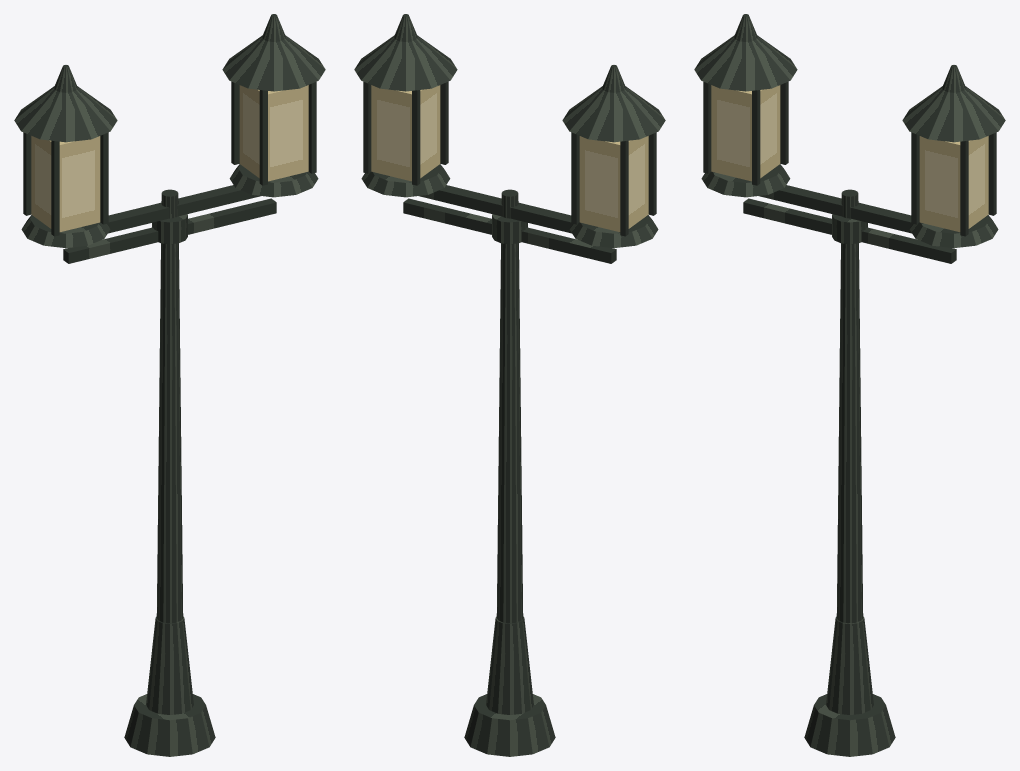
The model's file is street_light_double.gltf.
3 renders of one model, left to right at view 1: azimuth 30°, elevation 25°; view 2: azimuth 150°, elevation 25°; view 3: azimuth 330°, elevation 25°, orthographic.
Visible parts, largest first — view 1: warm_glass (×2), slender_column, lantern_roof (×2), lantern_frame (×6), plinth, pedestal, lantern_foot (×2), brace (×2), cross_arm, collar; view 2: warm_glass (×2), slender_column, lantern_roof (×2), lantern_frame (×6), plinth, pedestal, lantern_foot (×2), brace (×2), cross_arm, collar; view 3: warm_glass (×2), slender_column, lantern_roof (×2), lantern_frame (×6), plinth, pedestal, lantern_foot (×2), brace (×2), cross_arm, collar.
Part boxes in pixels (x1,y1,x2,y2): warm_glass (×2): (31,85,308,232); slender_column: (156,189,183,623); lantern_roof (×2): (14,35,325,142); lantern_frame (×6): (23,81,316,236); plinth: (124,694,215,756); pedestal: (146,616,193,714); lantern_foot (×2): (21,164,318,248); brace (×2): (63,198,276,263); cross_arm: (107,185,260,233); collar: (152,214,187,244); warm_glass (×2): (371,85,648,232); slender_column: (496,189,523,623); lantern_roof (×2): (354,35,665,142); lantern_frame (×6): (363,81,656,236); plinth: (464,694,555,756); pedestal: (486,616,533,714); lantern_foot (×2): (361,164,658,248); brace (×2): (403,198,616,263); cross_arm: (419,185,572,233); collar: (492,214,527,244); warm_glass (×2): (711,85,988,232); slender_column: (836,189,863,623); lantern_roof (×2): (694,35,1005,142); lantern_frame (×6): (703,81,996,236); plinth: (804,694,895,756); pedestal: (826,616,873,714); lantern_foot (×2): (701,164,998,248); brace (×2): (743,198,956,263); cross_arm: (759,185,912,233); collar: (832,214,867,244).
Bounding box in the file's own units: 1.79 × 4 × 0.5375.
Materials: 2 (2 with a texture image).
